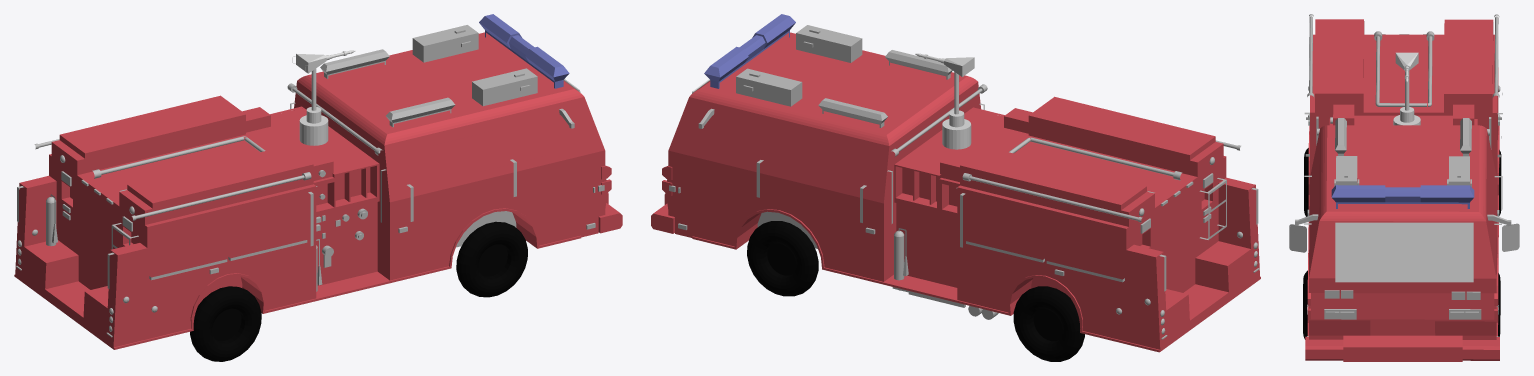
Rendered from fire_trunk2.glb.
3 views of the same model, side by side, from view 1: azimuth 30°, elevation 25°; view 2: azimuth 150°, elevation 25°; view 3: azimuth 270°, elevation 25° (orthographic). The views are drawn at different scales.
Size of the model in its own units: 15.4 by 6.74 by 6.31.
